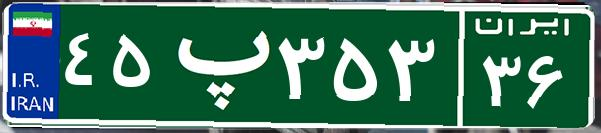3: (385, 28, 445, 110), (273, 28, 330, 110), (475, 38, 525, 113)
4: (57, 26, 110, 107)
5: (330, 28, 385, 110), (110, 28, 158, 105)
6: (525, 38, 570, 115)
پ: (158, 15, 273, 115)
